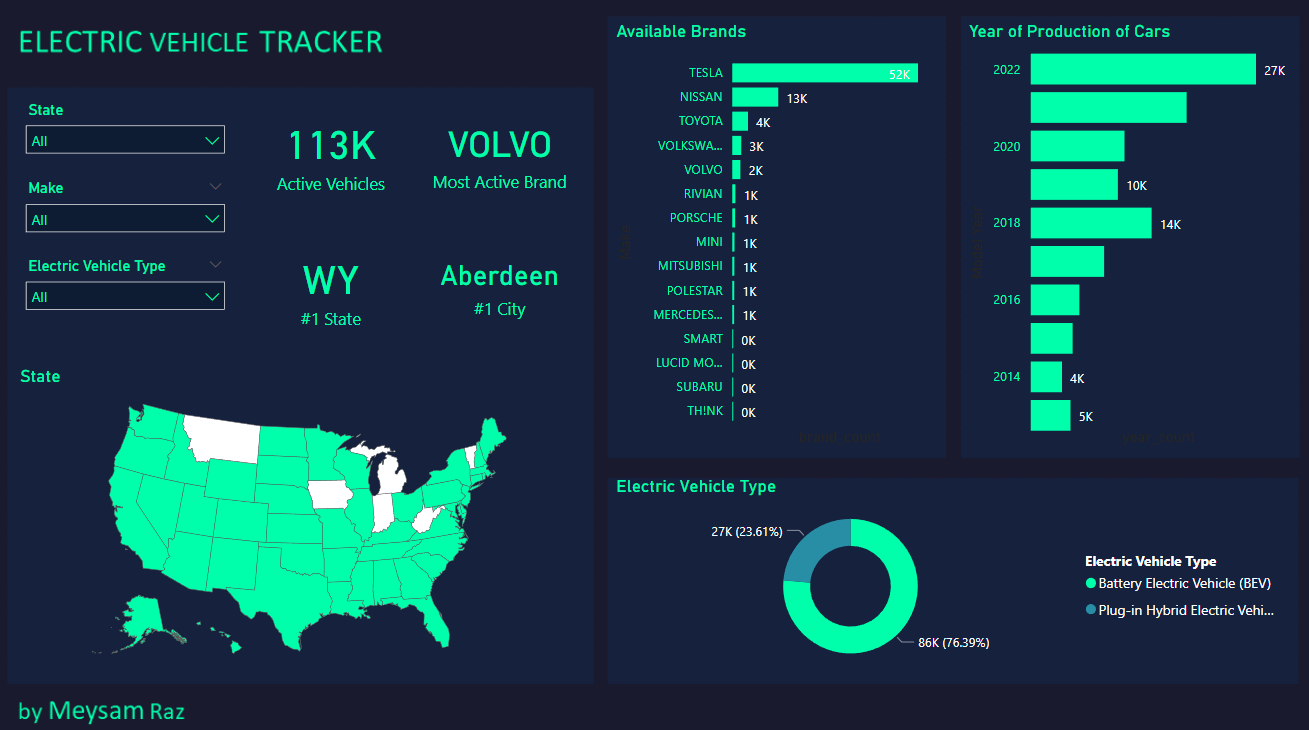

Layout of this report page (visuals, bound fields, positions):
{"tool":"powerbi","page":{"name":"Page 1","canvas":[1280,720],"ordinal":0},"visuals":[{"type":"shapeMap","fields":{"Category":["Electric_Vehicle_Population_Data.State"]},"box":[24.7,359.5,548.9,296.4],"z":0},{"type":"barChart","title":"Available Brands","fields":{"Category":["Electric_Vehicle_Population_Data.Make"],"Y":["Electric_Vehicle_Population_Data.brand_count"]},"box":[599.7,26.1,328,414.4],"z":1000},{"type":"barChart","title":"Year of Production of Cars","fields":{"Y":["Electric_Vehicle_Population_Data.year_count"],"Category":["Electric_Vehicle_Population_Data.Model Year"]},"box":[940,26.1,315.6,414.4],"z":2000},{"type":"donutChart","title":"Electric Vehicle Type","fields":{"Category":["Electric_Vehicle_Population_Data.Electric Vehicle Type"],"Y":["Electric_Vehicle_Population_Data.cont_type"]},"box":[599.7,465.2,655.9,194.9],"z":3000},{"type":"card","fields":{"Values":["Measurments.MOST CITY"]},"box":[419.9,223.7,144.1,116.6],"z":4000},{"type":"card","fields":{"Values":["Measurments.MOST BRAND"]},"box":[419.9,94.7,144.1,116.6],"z":5000},{"type":"card","fields":{"Values":["Measurments.MOST STATE"]},"box":[256.6,225,144.1,116.6],"z":6000},{"type":"card","fields":{"Values":["Measurments.number_rows"]},"box":[256.6,94.7,144.1,116.6],"z":7000},{"type":"slicer","fields":{"Values":["Electric_Vehicle_Population_Data.State"]},"box":[24.7,98.8,212.7,75.5],"z":8000},{"type":"slicer","fields":{"Values":["Electric_Vehicle_Population_Data.Make"]},"box":[24.7,174.3,212.7,75.5],"z":9000},{"type":"slicer","fields":{"Values":["Electric_Vehicle_Population_Data.Electric Vehicle Type"]},"box":[24.7,249.7,212.7,75.5],"z":10000}]}

Visuals, with their boxes in screenshot pixels (x1, y1, x2, y2), scaled from the page's 1280x720 canvas onto the 1309x730 screenshot:
shapeMap - Electric_Vehicle_Population_Data.State: crop(25, 364, 587, 665)
"Available Brands" barChart: crop(613, 26, 949, 447)
"Year of Production of Cars" barChart: crop(961, 26, 1284, 447)
"Electric Vehicle Type" donutChart: crop(613, 472, 1284, 669)
card - Measurments.MOST CITY: crop(429, 227, 577, 345)
card - Measurments.MOST BRAND: crop(429, 96, 577, 214)
card - Measurments.MOST STATE: crop(262, 228, 410, 346)
card - Measurments.number_rows: crop(262, 96, 410, 214)
slicer - Electric_Vehicle_Population_Data.State: crop(25, 100, 243, 177)
slicer - Electric_Vehicle_Population_Data.Make: crop(25, 177, 243, 253)
slicer - Electric_Vehicle_Population_Data.Electric Vehicle Type: crop(25, 253, 243, 330)
